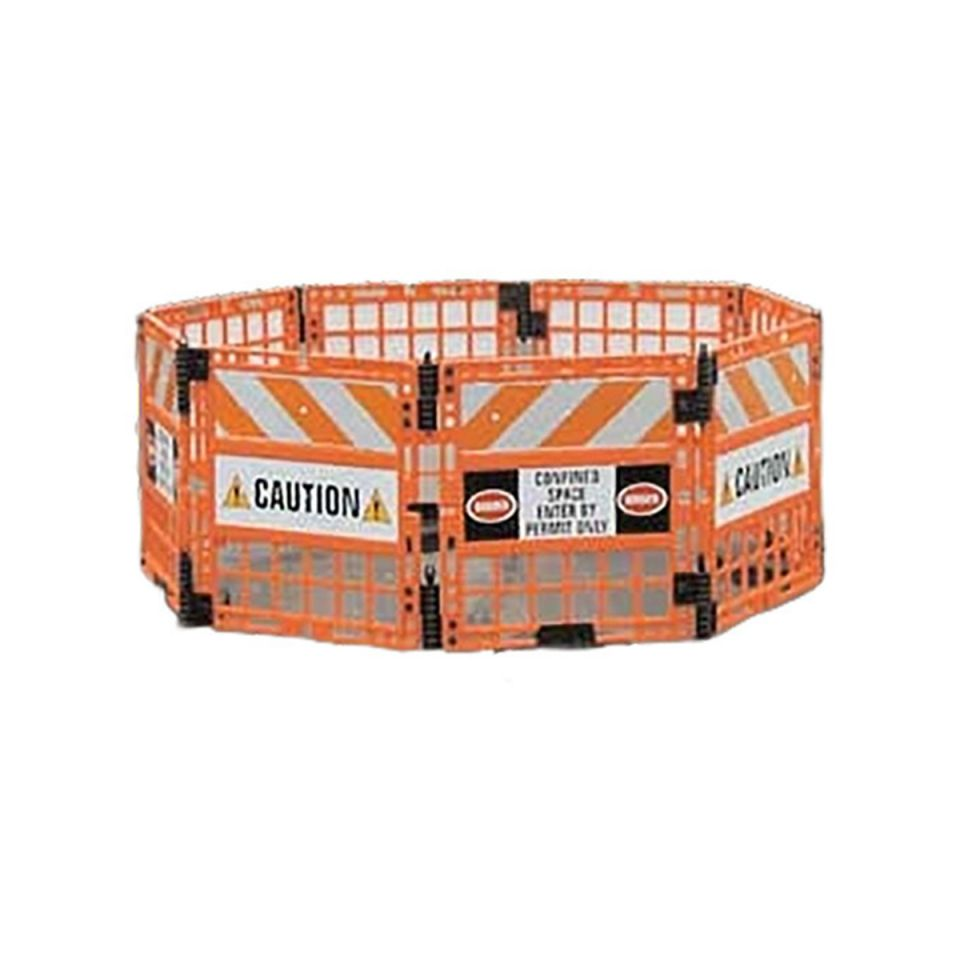Barrier: (91, 243, 855, 669)
